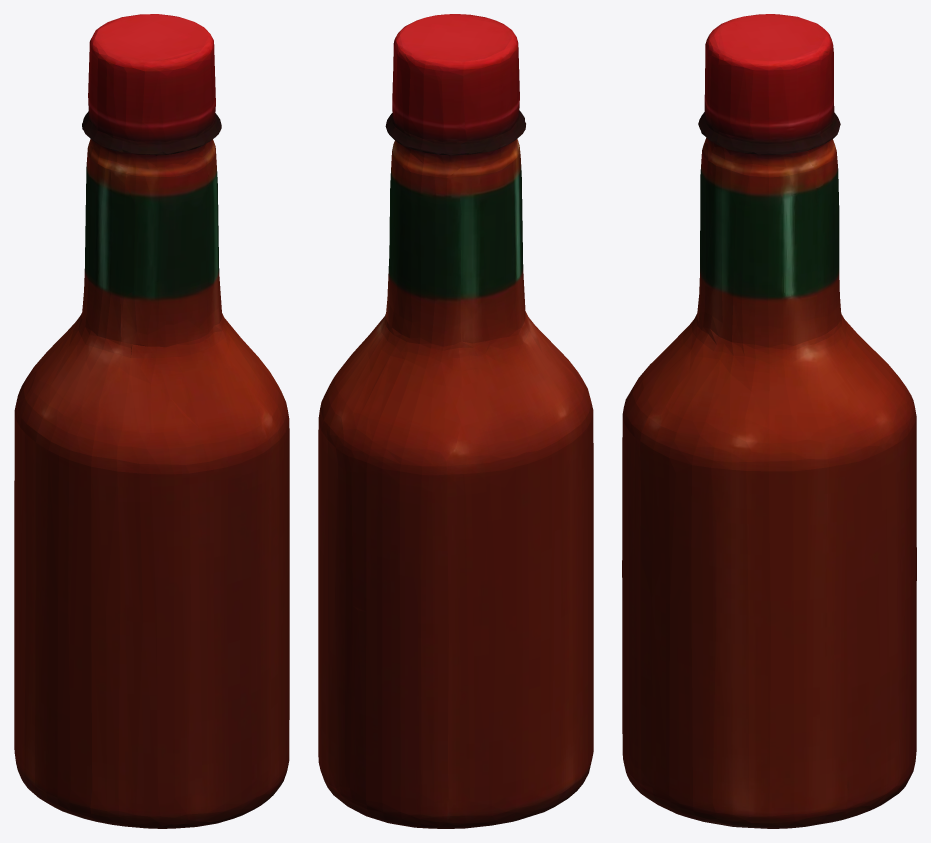
The model's file is giftbox_black_redbow.glb.
3 views of the same model, side by side, from view 1: azimuth 30°, elevation 25°; view 2: azimuth 150°, elevation 25°; view 3: azimuth 270°, elevation 25° (orthographic).
Visible parts, largest first — view 1: geometry_0; view 2: geometry_0; view 3: geometry_0.
Boxes of the visible parts, x1,y1,x2,y2 form: geometry_0: [14, 14, 289, 828]; geometry_0: [318, 14, 593, 828]; geometry_0: [622, 14, 916, 828].
Size of the model in its own units: 0.3321 by 0.9999 by 0.3611.
1 material, 1 textured.
